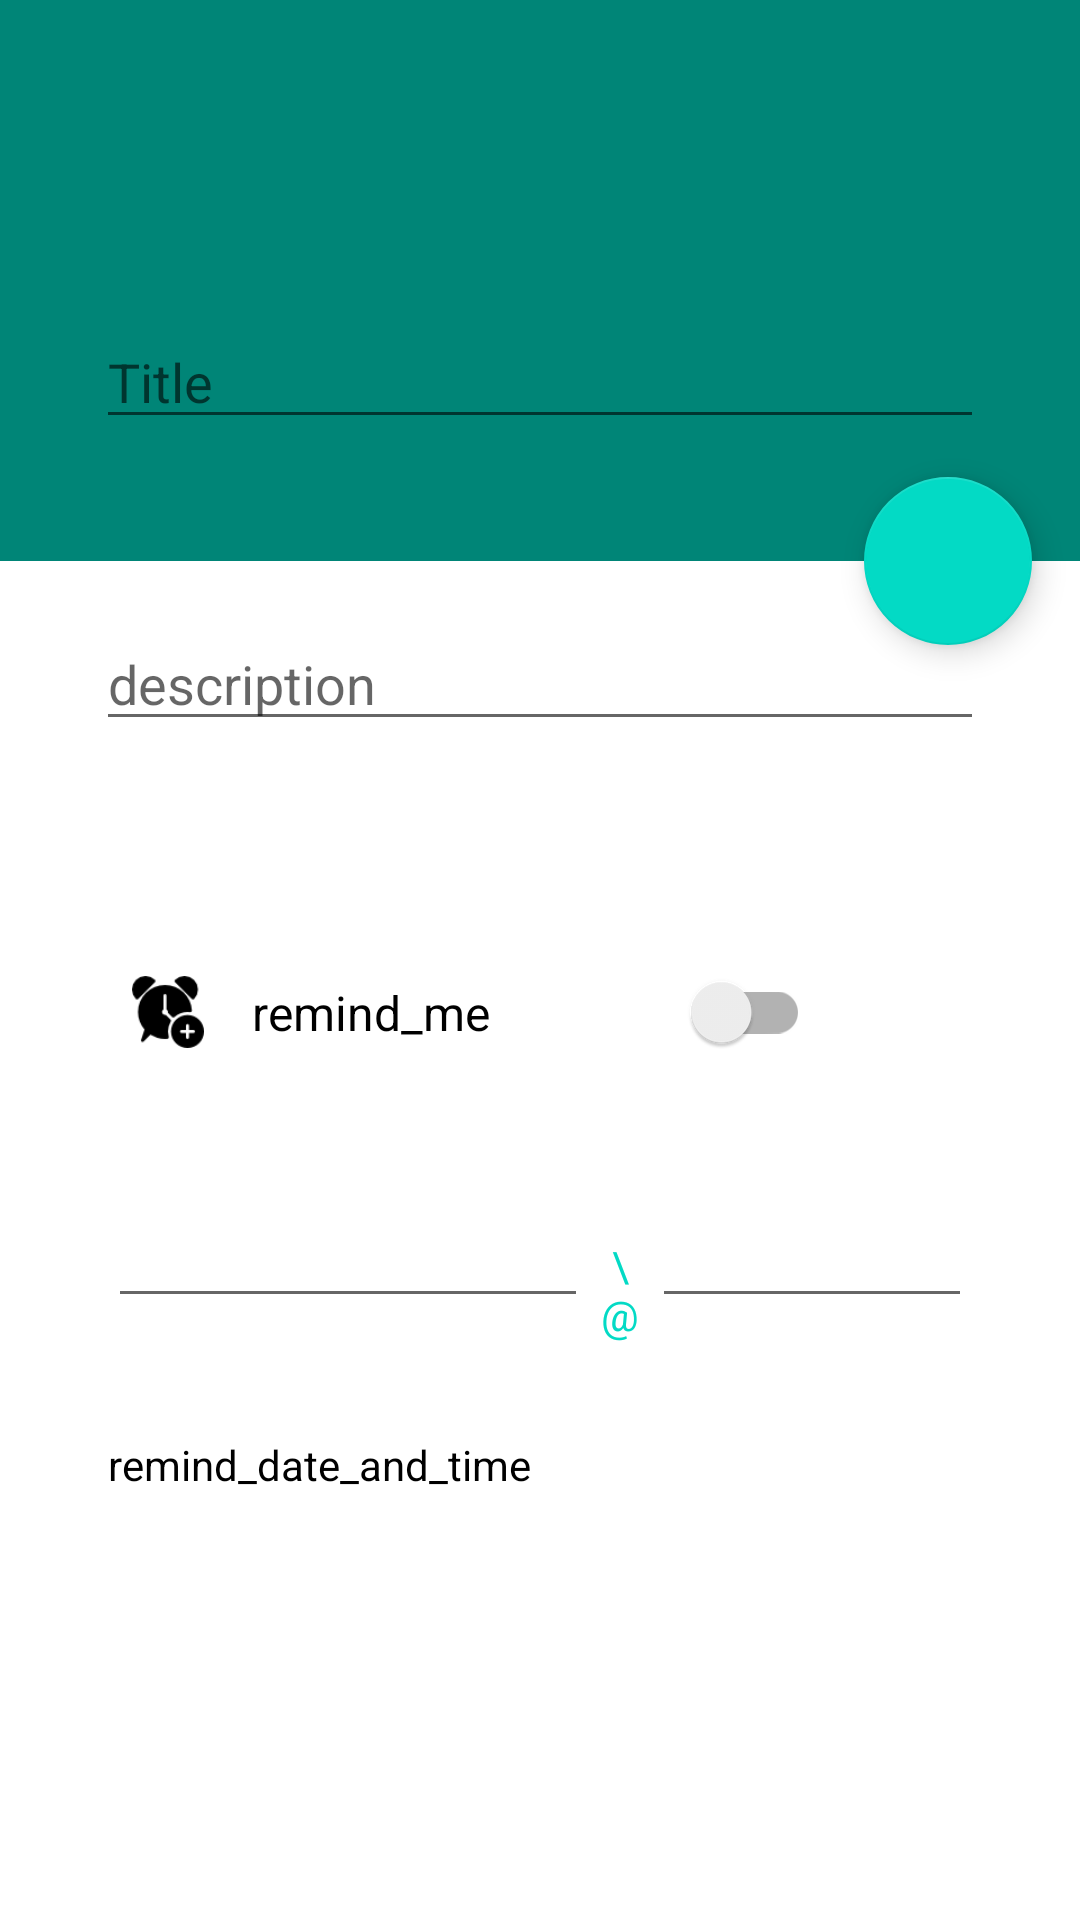

Screen size 1080 × 1920. Icon name, then its box in pixels as (x1, y1, x2, y2):
alarm add: (132, 976, 204, 1048)
